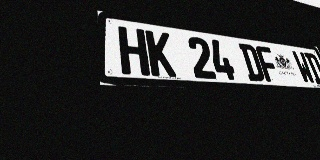2: (187, 36, 217, 79)
4: (207, 39, 237, 80)
D: (238, 43, 266, 82), (304, 52, 320, 85)
F: (255, 45, 282, 82)
H: (118, 26, 150, 76)
K: (145, 30, 177, 77)
W: (291, 51, 316, 84)
